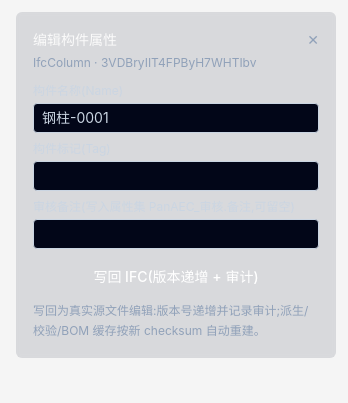
it: IfcElementEditOverlay › surfaces server rejection verbatim
The image size is (348, 403).
Replace the text in the field labelled "构件名称(Name)" with "X" at (176, 118), box [33,103,319,133]
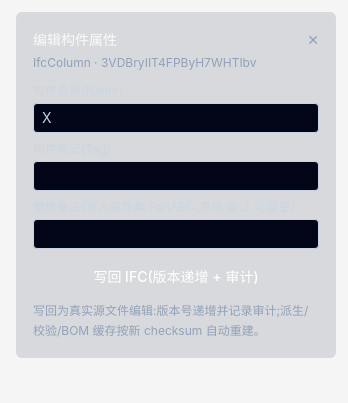
Click the button "写回 IFC(版本递增 + 审计)" at (176, 277), box [33,261,319,293]
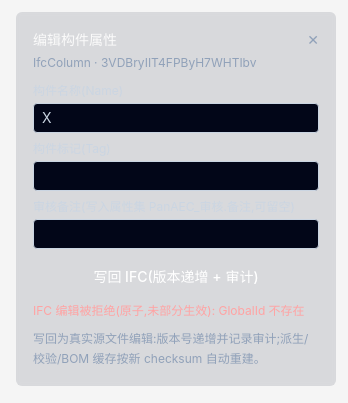
Expected: the text "IFC 编辑被拒绝(原子,未部分生效): GlobalId 不存在" is shown, [33,301,319,321]
